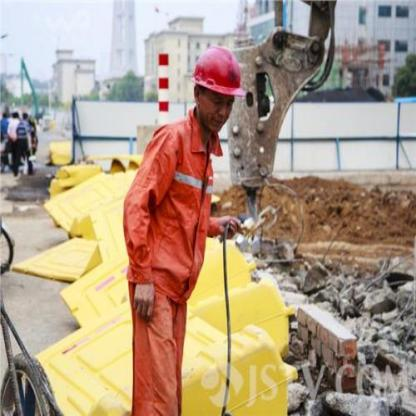helmet: (186, 39, 250, 133)
